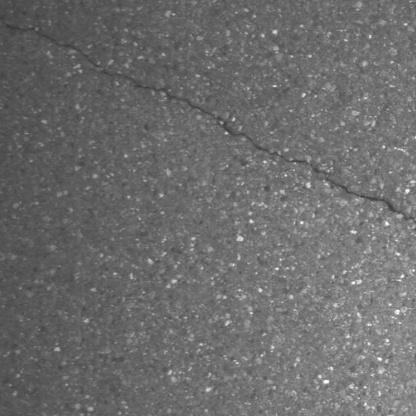Cracks: (96, 70, 416, 233), (0, 15, 104, 70)
